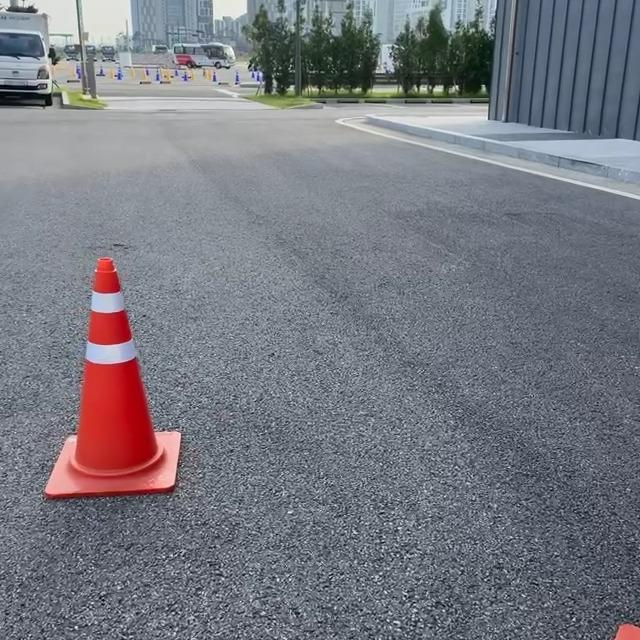fallen_object: (37, 233, 198, 510)
